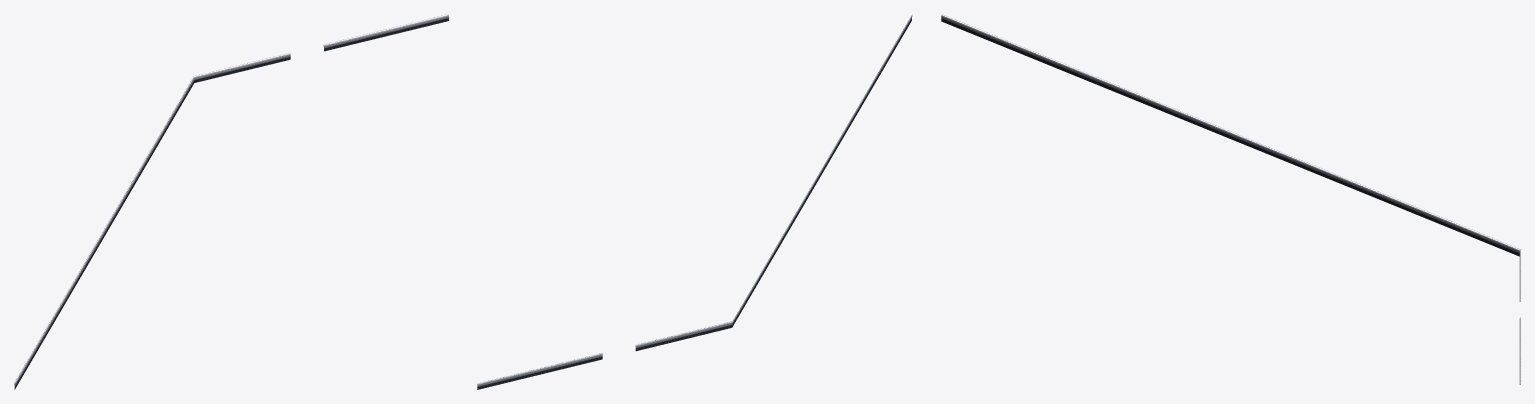
Rendered from railing.glb.
3 views of the same model, side by side, from view 1: azimuth 30°, elevation 25°; view 2: azimuth 210°, elevation 25°; view 3: azimuth 270°, elevation 25° (orthographic). The views are drawn at different scales.
Parts seen in each view (by area): view 1: railing.002, railing.003, railing; view 2: railing.002, railing.003, railing; view 3: railing.002.
Boxes of the visible parts, x1,y1,x2,y2 form: railing.002: [14, 77, 194, 389]; railing.003: [323, 14, 448, 51]; railing: [194, 52, 290, 82]; railing.002: [732, 14, 912, 326]; railing.003: [477, 353, 602, 389]; railing: [635, 321, 732, 351]; railing.002: [941, 14, 1519, 256].
Bounding box in the file's own units: 38.54 × 0.3578 × 25.58.
Materials: 2 (1 with a texture image).
